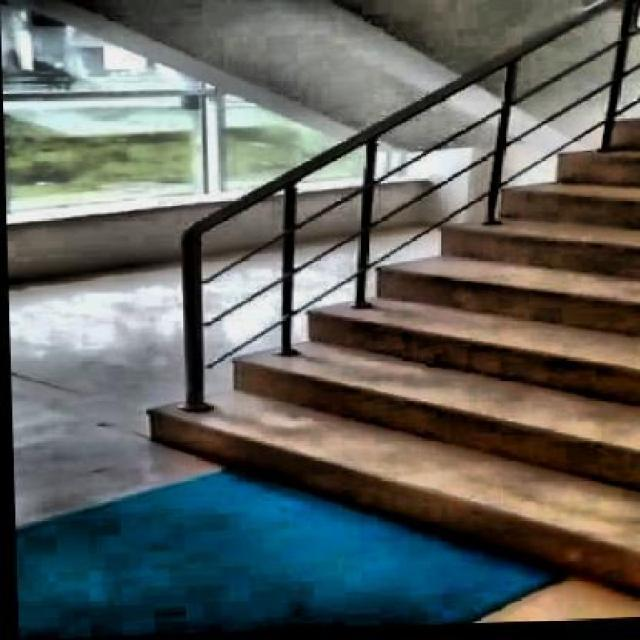stair: (116, 57, 638, 637)
